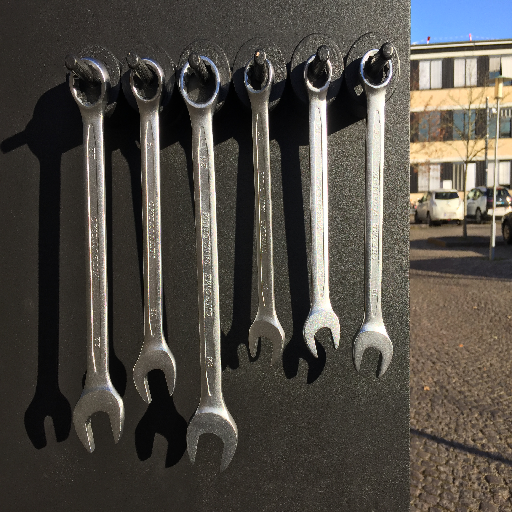bottom: (74, 386, 127, 454), (186, 408, 241, 471), (131, 346, 180, 404), (349, 324, 395, 380), (300, 311, 345, 361), (247, 319, 287, 365)
top: (175, 53, 224, 109), (66, 55, 110, 110), (127, 55, 166, 105), (357, 46, 395, 90), (302, 51, 336, 95), (240, 56, 277, 95)
